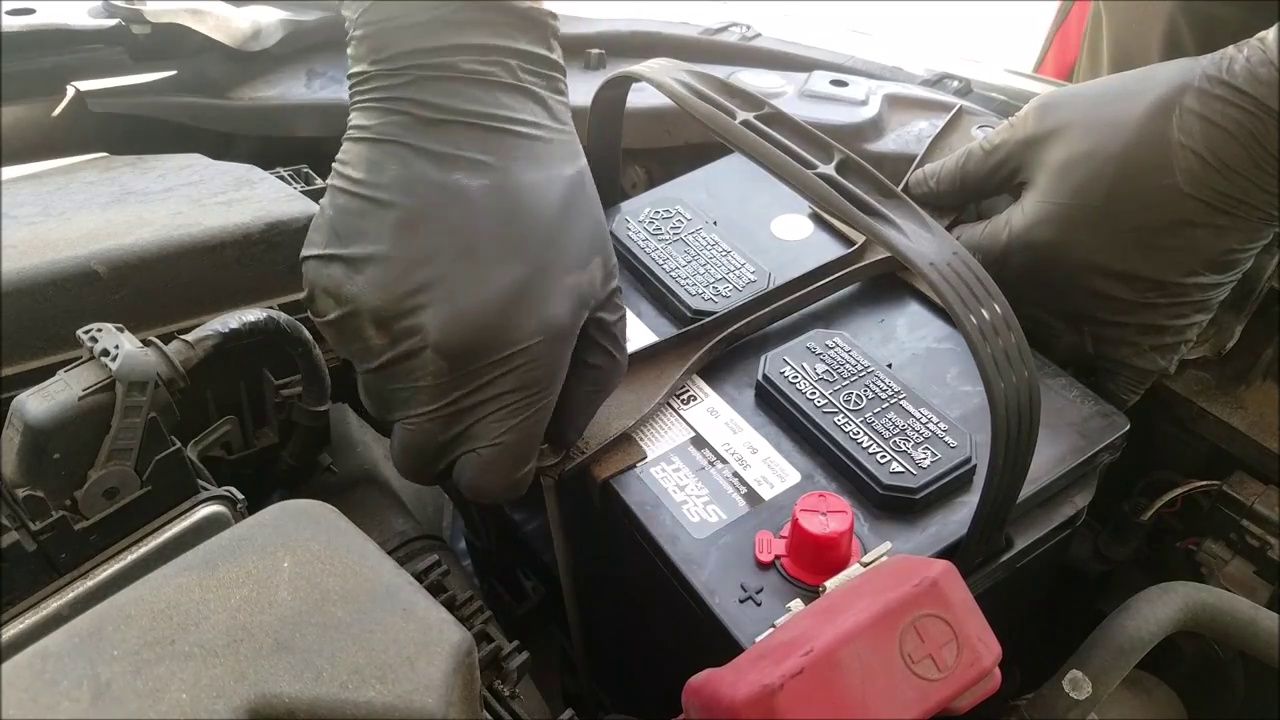battery: (481, 139, 1126, 651)
pos_disconnected: (734, 478, 954, 703)
